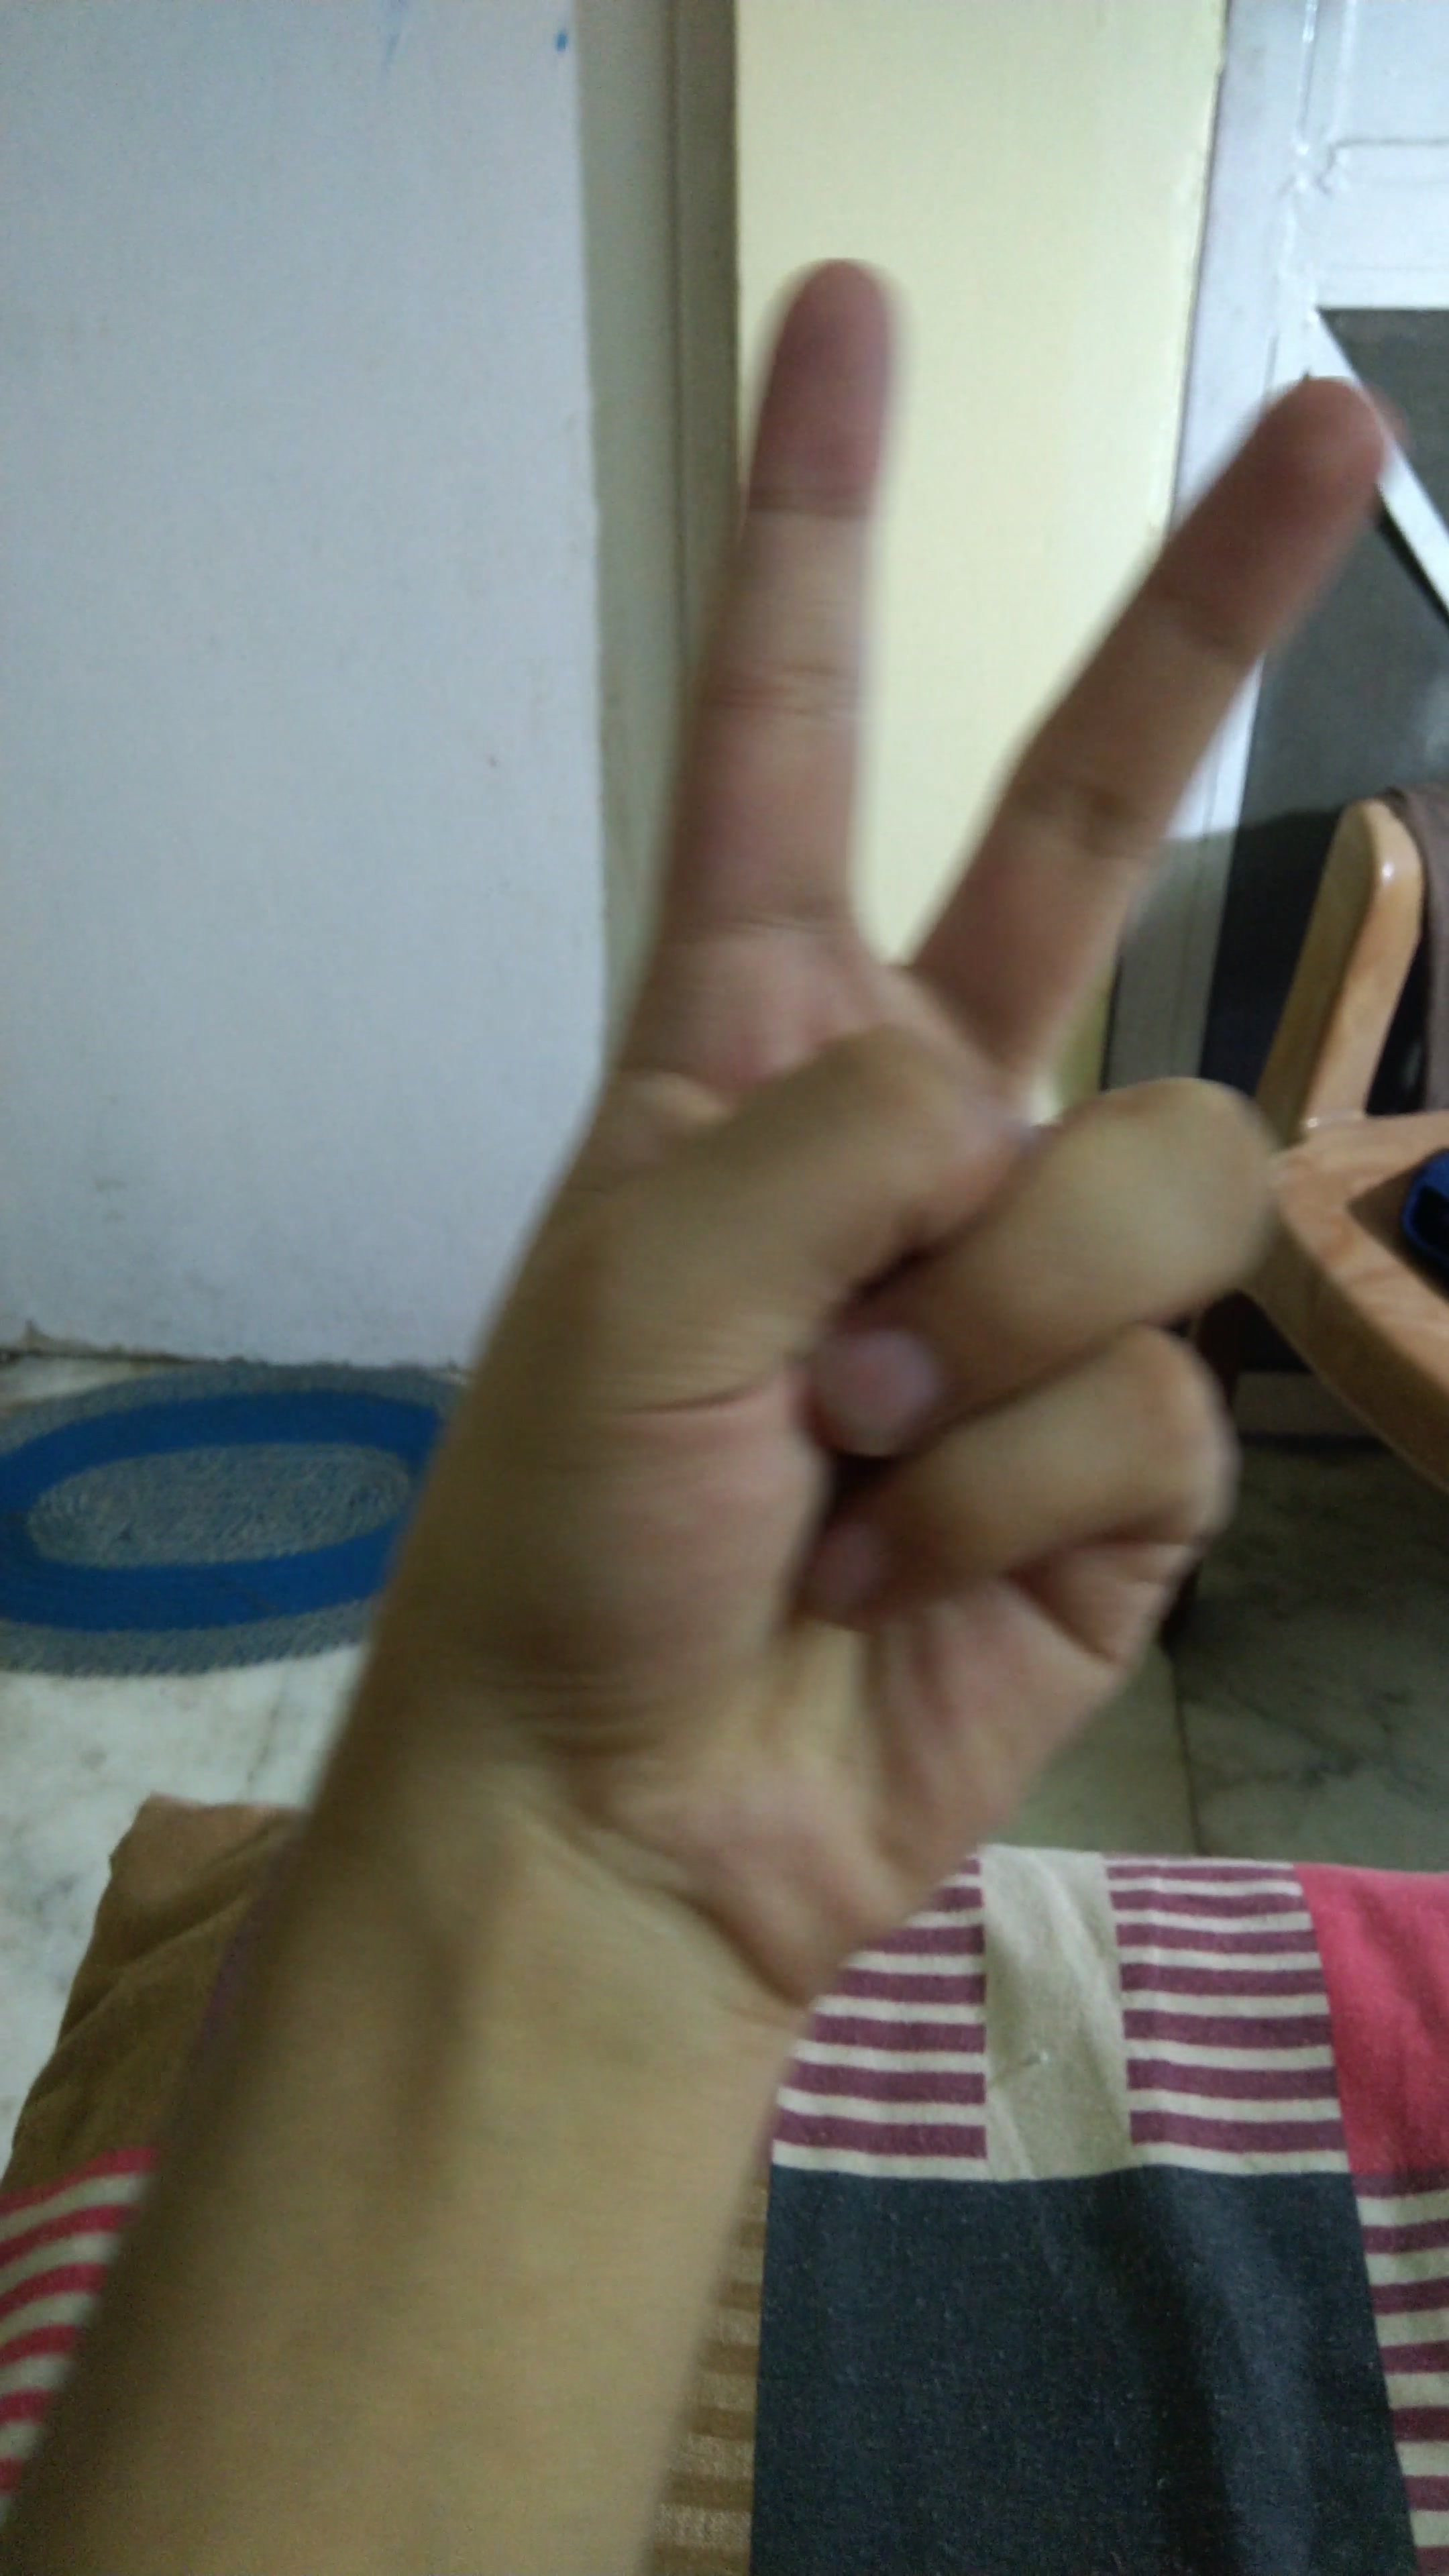hand: (320, 230, 1228, 1978)
